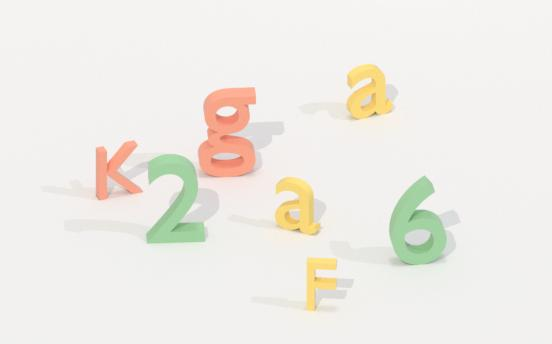2: (142, 152, 209, 250)
F: (299, 253, 345, 325)
a: (270, 165, 328, 243), (337, 57, 401, 122)
cau: (385, 169, 451, 271)
g: (197, 80, 264, 181)
k: (92, 133, 143, 204)
